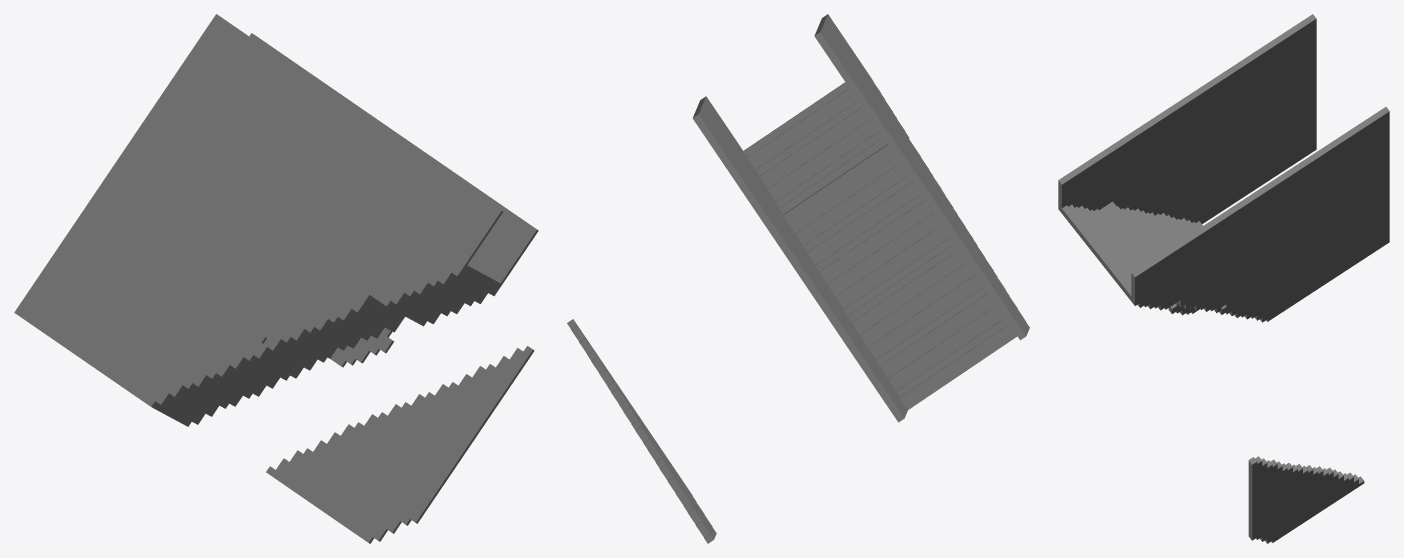
Rendered from tile_3_0.glb.
The picture shows the model from 3 angles, left to right: view 1: azimuth 30°, elevation 25°; view 2: azimuth 150°, elevation 25°; view 3: azimuth 270°, elevation 25°; orthographic projection. The views are drawn at different scales.
Visible parts, largest first — view 1: universal_minecraft:terracotta:up, universal_minecraft:concrete:up, universal_minecraft:stone_bricks:north, universal_minecraft:stone_bricks:up, universal_minecraft:grass_block:up, universal_minecraft:concrete:north; view 2: universal_minecraft:stone_bricks:south, universal_minecraft:terracotta:up, universal_minecraft:grass_block:up, universal_minecraft:grass_block:south, universal_minecraft:terracotta:south, universal_minecraft:stone_bricks:west, universal_minecraft:concrete:south, universal_minecraft:concrete:up; view 3: universal_minecraft:grass_block:down, universal_minecraft:terracotta:down, universal_minecraft:stone_bricks:west, universal_minecraft:concrete:down, universal_minecraft:grass_block:west, universal_minecraft:terracotta:west, universal_minecraft:stone_bricks:down, universal_minecraft:stone_bricks:north, universal_minecraft:concrete:west, universal_minecraft:concrete:north.
Boxes of the visible parts, bbox=[...] form: universal_minecraft:terracotta:up: bbox=[14, 14, 501, 402]; universal_minecraft:concrete:up: bbox=[266, 346, 532, 542]; universal_minecraft:stone_bricks:north: bbox=[151, 264, 502, 426]; universal_minecraft:stone_bricks:up: bbox=[146, 260, 464, 406]; universal_minecraft:grass_block:up: bbox=[249, 33, 536, 345]; universal_minecraft:concrete:north: bbox=[369, 350, 534, 543]; universal_minecraft:stone_bricks:south: bbox=[743, 82, 1017, 409]; universal_minecraft:terracotta:up: bbox=[820, 14, 1029, 335]; universal_minecraft:grass_block:up: bbox=[698, 96, 907, 417]; universal_minecraft:grass_block:south: bbox=[693, 114, 904, 422]; universal_minecraft:terracotta:south: bbox=[814, 32, 1025, 340]; universal_minecraft:stone_bricks:west: bbox=[744, 82, 1008, 397]; universal_minecraft:concrete:south: bbox=[567, 319, 713, 543]; universal_minecraft:concrete:up: bbox=[573, 319, 716, 539]; universal_minecraft:grass_block:down: bbox=[1135, 111, 1389, 318]; universal_minecraft:terracotta:down: bbox=[1062, 19, 1316, 309]; universal_minecraft:stone_bricks:west: bbox=[1062, 201, 1226, 309]; universal_minecraft:concrete:down: bbox=[1252, 461, 1364, 543]; universal_minecraft:grass_block:west: bbox=[1131, 107, 1389, 276]; universal_minecraft:terracotta:west: bbox=[1058, 14, 1316, 184]; universal_minecraft:stone_bricks:down: bbox=[1135, 294, 1272, 322]; universal_minecraft:stone_bricks:north: bbox=[1058, 204, 1267, 321]; universal_minecraft:concrete:west: bbox=[1248, 456, 1363, 483]; universal_minecraft:concrete:north: bbox=[1248, 461, 1272, 543].
Bounding box in the file's own units: 77.71 × 83.33 × 52.86.
Materials: 24 (24 with a texture image).
